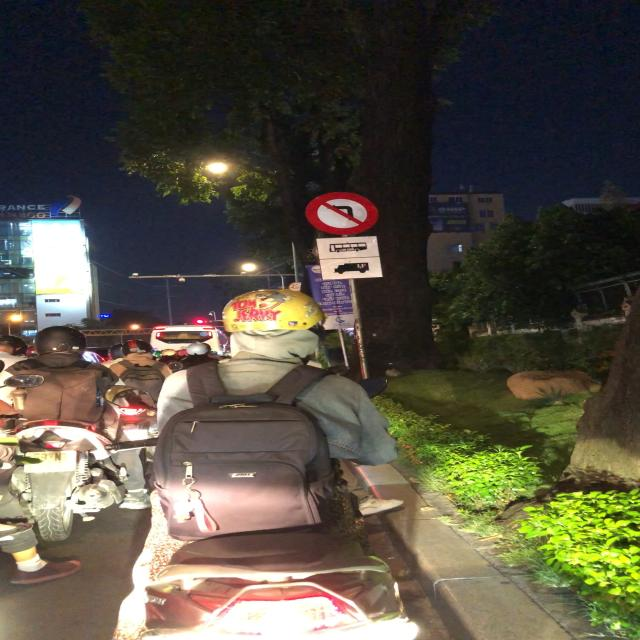Bien bao cam re trai: (302, 190, 384, 237)
